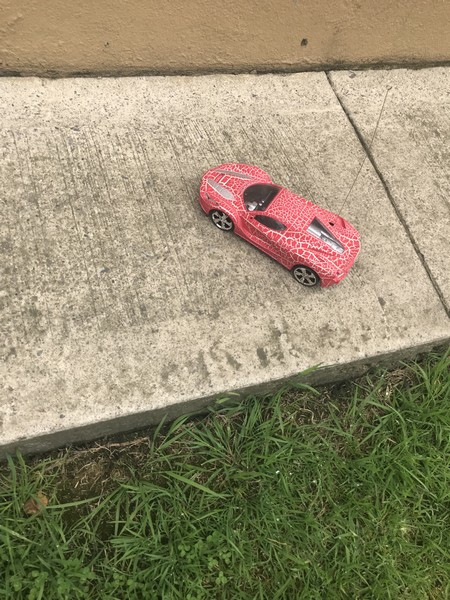RC: (198, 161, 362, 288)
